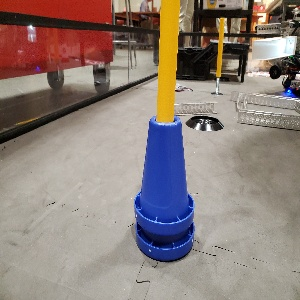Blue_2: (133, 116, 194, 262)
